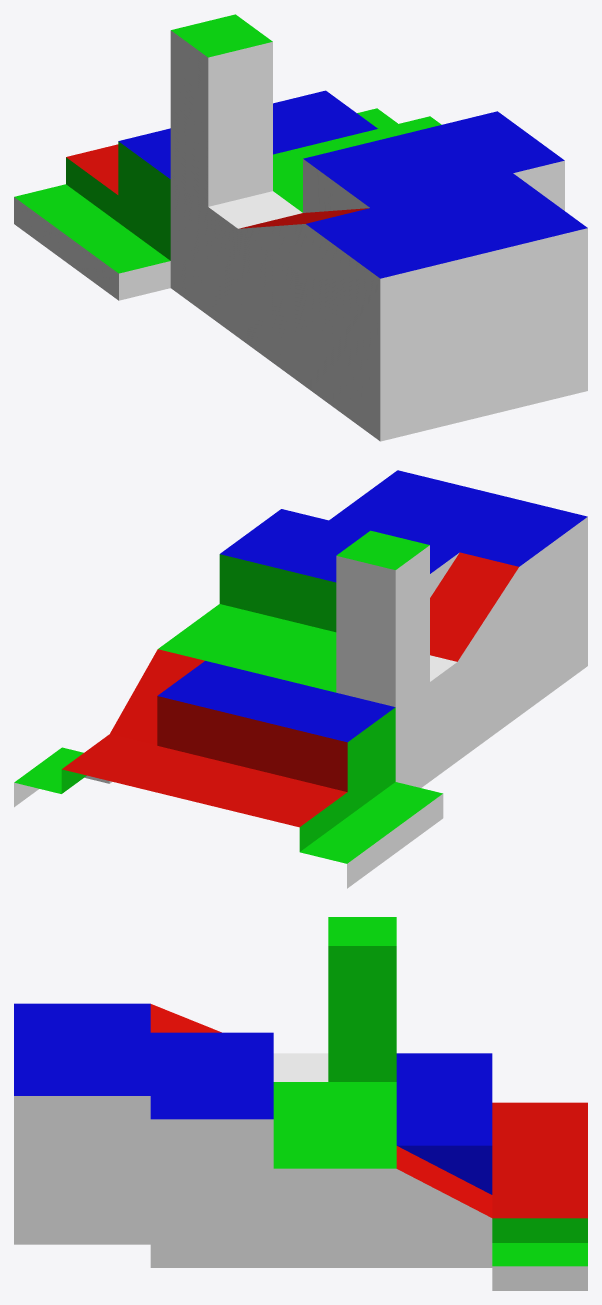
The model's file is BetterTestMap.fbx.
The picture shows the model from 3 angles, top to bottom: view 1: azimuth 30°, elevation 25°; view 2: azimuth 150°, elevation 25°; view 3: azimuth 270°, elevation 25°; orthographic projection. The views are drawn at different scales.
Parts seen in each view (by area): view 1: Main NoInk, Main Blue2, Main Green1, Main Green2, Main Blue1, Main Red1; view 2: Main NoInk, Main Red1, Main Blue2, Main Green2, Main Green1, Main Blue1; view 3: Main NoInk, Main Blue2, Main Green2, Main Red1, Main Blue1, Main Green1.
Boxes of the visible parts, box(x1,y1,x2,y2) form: Main NoInk: box(14, 30, 587, 441); Main Blue2: box(303, 111, 587, 278); Main Green1: box(14, 108, 397, 273); Main Green2: box(171, 14, 441, 212); Main Blue1: box(118, 90, 377, 178); Main Red1: box(66, 144, 369, 228); Main NoInk: box(14, 517, 587, 888); Main Red1: box(62, 552, 518, 827); Main Blue2: box(220, 470, 587, 582); Main Green2: box(158, 530, 429, 692); Main Green1: box(14, 707, 442, 863); Main Blue1: box(157, 661, 395, 742); Main NoInk: box(14, 1053, 587, 1290); Main Blue2: box(14, 1003, 273, 1119); Main Green2: box(273, 917, 396, 1168); Main Red1: box(150, 1004, 587, 1218); Main Blue1: box(396, 1053, 492, 1194); Main Green1: box(492, 1218, 587, 1266).
Size of the model in its own units: 4200 by 2800 by 1900.
